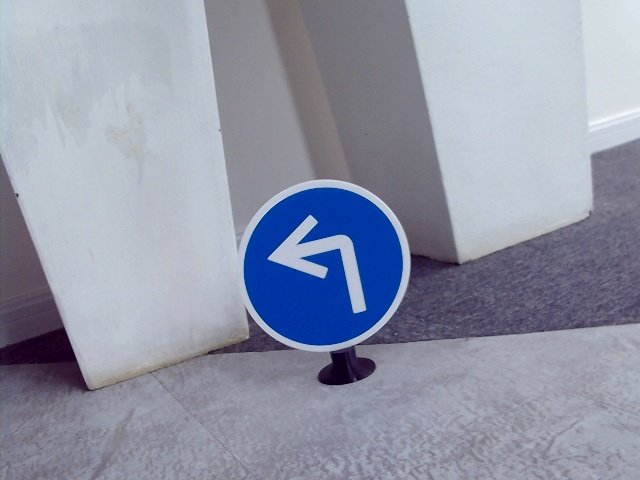turn_left: (264, 216, 373, 316)
